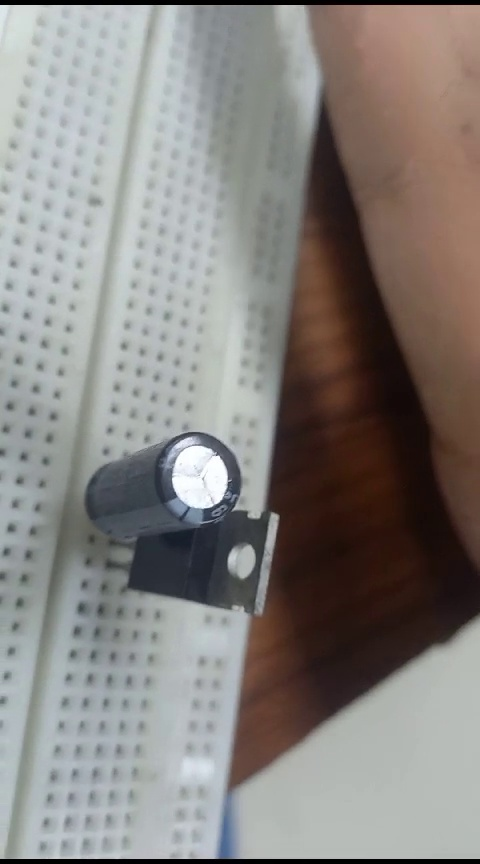capacitor: (74, 421, 246, 544)
voltage regulator: (148, 496, 284, 623)
